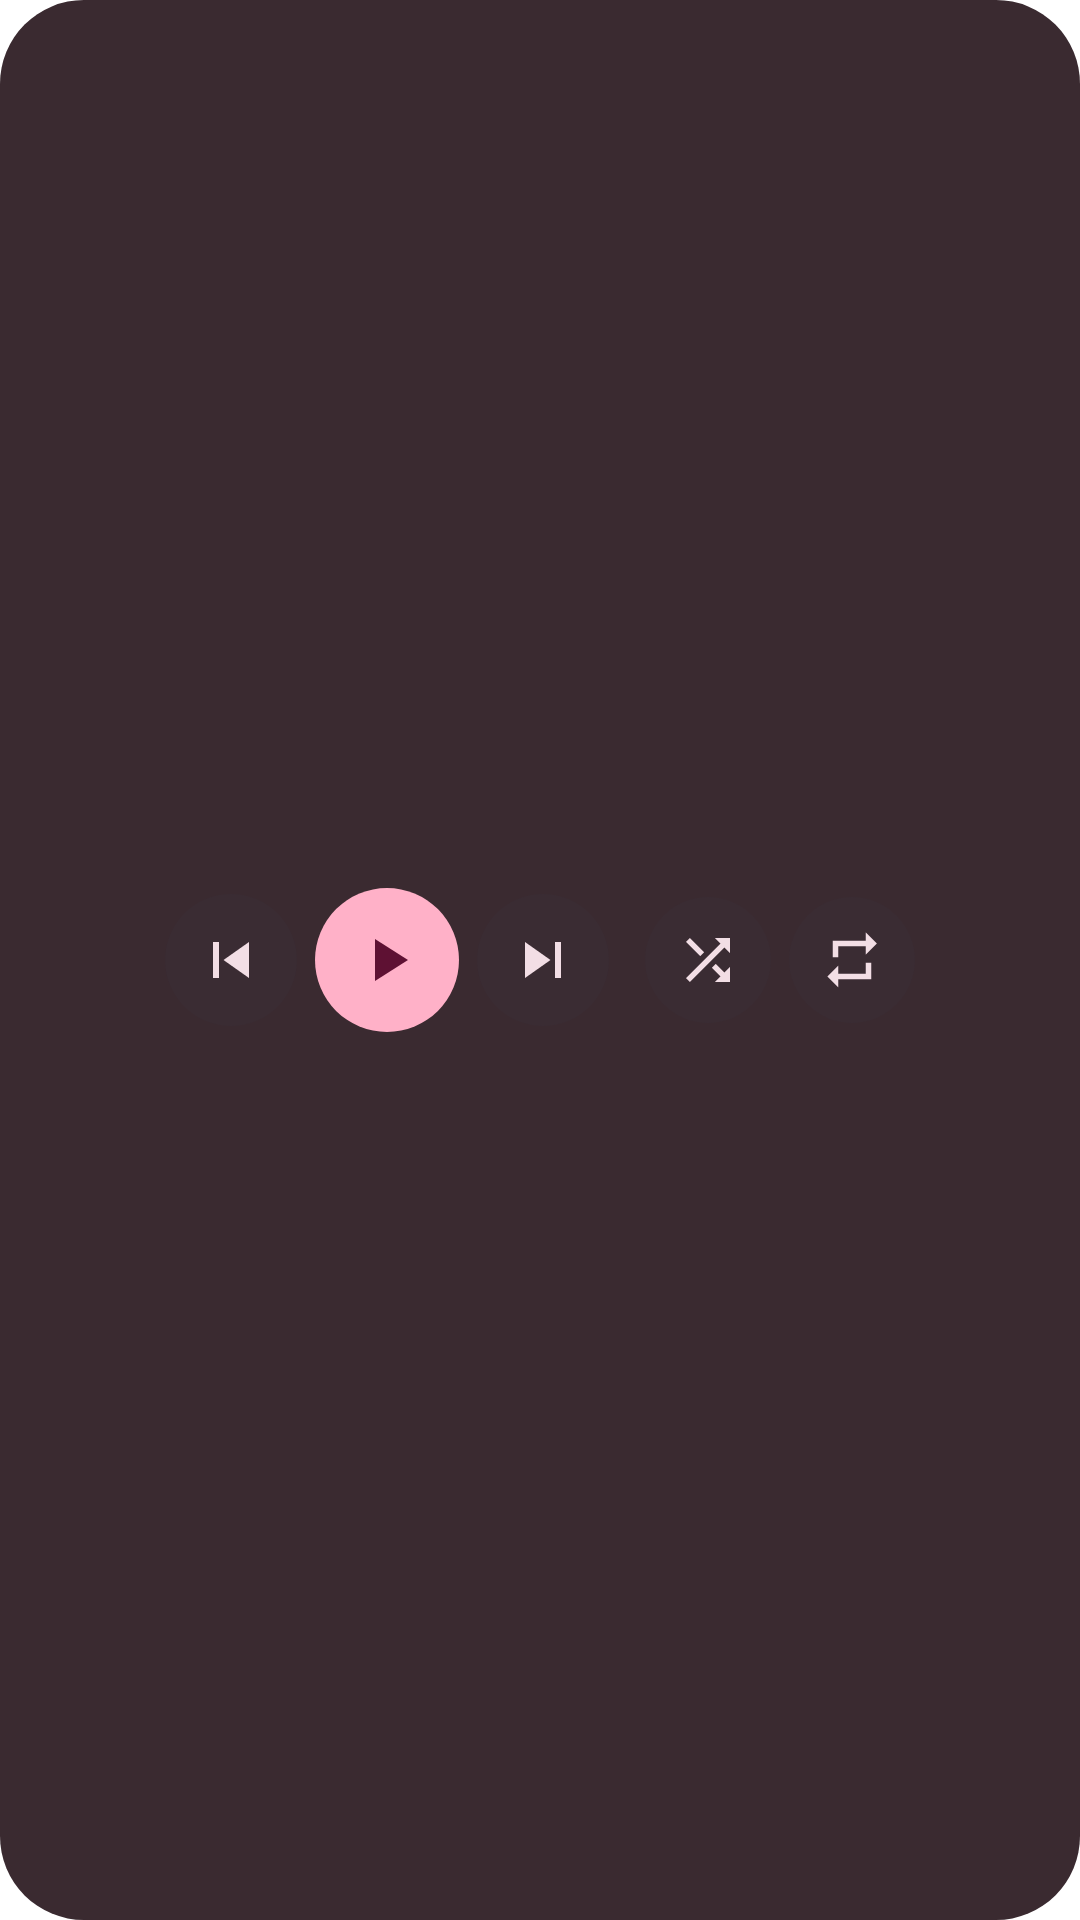

Icons on this 1080 × 1920 Android screen, each with the point to tap as point (x, y):
Next: point (543, 960)
Play: point (391, 960)
Previous: point (231, 960)
Repeat: point (852, 960)
Shuffle: point (708, 960)
